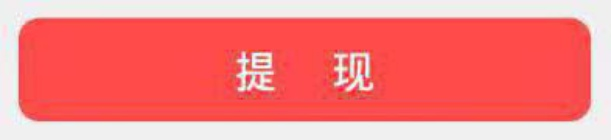Button: (1, 1, 610, 139)
